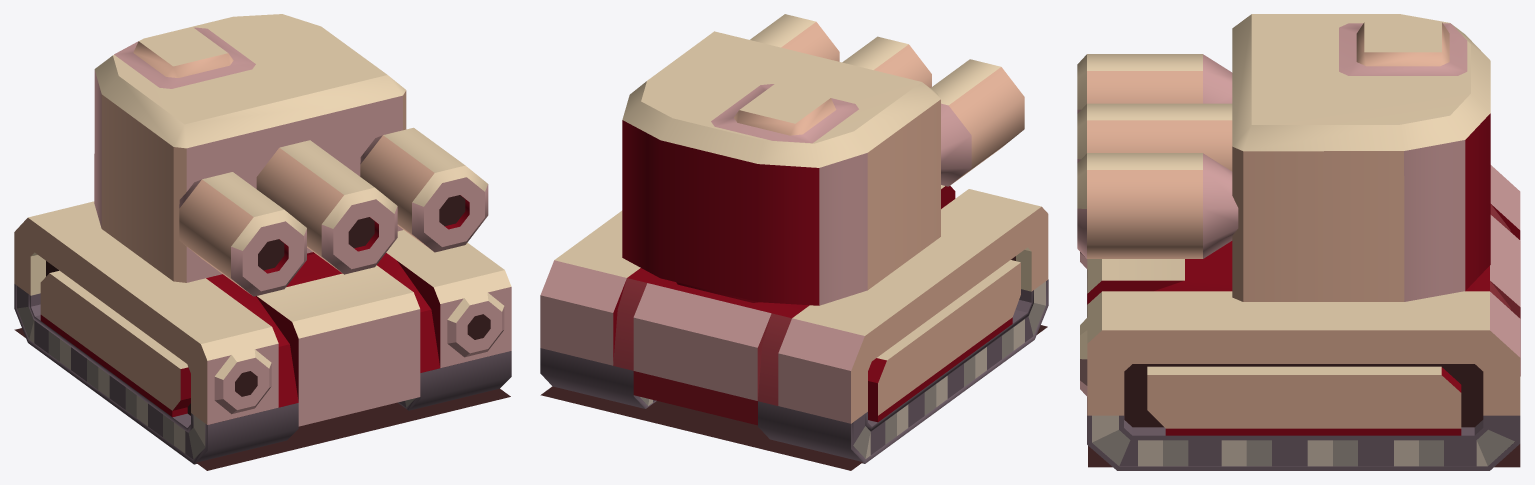
Rendered from MegaTankMesh.WhiteNova.glb.
The picture shows the model from 3 angles, left to right: view 1: azimuth 30°, elevation 25°; view 2: azimuth 150°, elevation 25°; view 3: azimuth 270°, elevation 25°; orthographic projection. The views are drawn at different scales.
Visible parts, largest first — view 1: MegaTankMesh.WhiteNova; view 2: MegaTankMesh.WhiteNova; view 3: MegaTankMesh.WhiteNova.
Boxes of the visible parts, <box> form: MegaTankMesh.WhiteNova: <box>14,14,511,470</box>; MegaTankMesh.WhiteNova: <box>540,14,1048,470</box>; MegaTankMesh.WhiteNova: <box>1077,14,1520,470</box>.
Size of the model in its own units: 2 by 1.86 by 2.25.
1 material, 1 textured.
